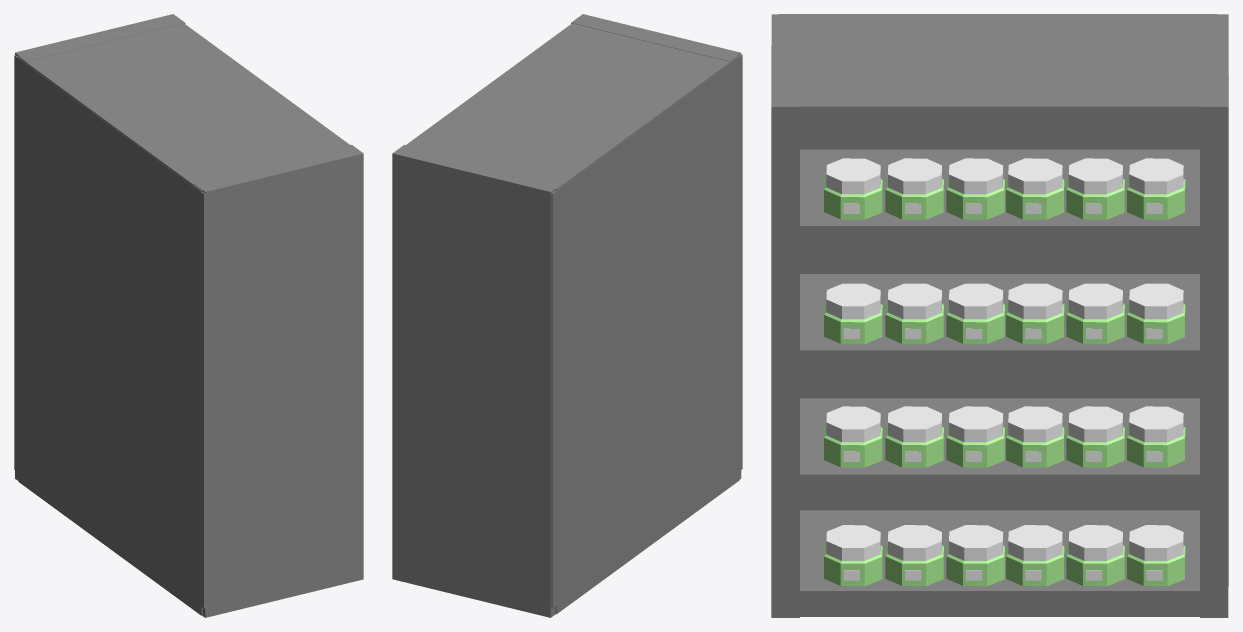
File: mint_bodycream_shelf.gltf
The picture shows the model from 3 angles, left to right: view 1: azimuth 30°, elevation 25°; view 2: azimuth 150°, elevation 25°; view 3: azimuth 270°, elevation 25°; orthographic projection. The views are drawn at different scales.
Parts seen in each view (by area): view 1: Cube; view 2: Cube; view 3: Cube.
Part boxes in pixels (bbox=[...]): Cube: bbox=[14, 14, 363, 617]; Cube: bbox=[392, 14, 742, 617]; Cube: bbox=[771, 14, 1228, 617].
Bounding box in the file's own units: 4.03 × 10.28 × 8.34.
Materials: 4 (1 with a texture image).
